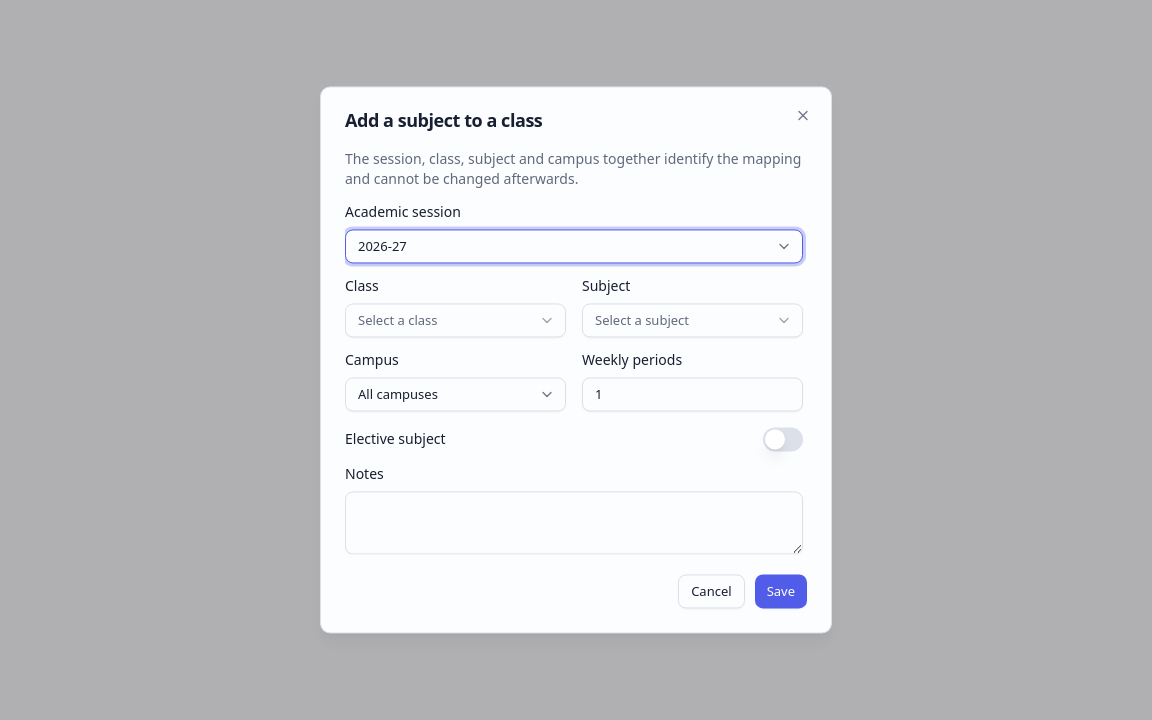
Test: CurriculumFormDialog › adding a subject › offers the sessions that aren't locked, starting on the screen's
Step 1. Click the dropdown named "Academic session" → [382, 246], box [345, 229, 803, 263]
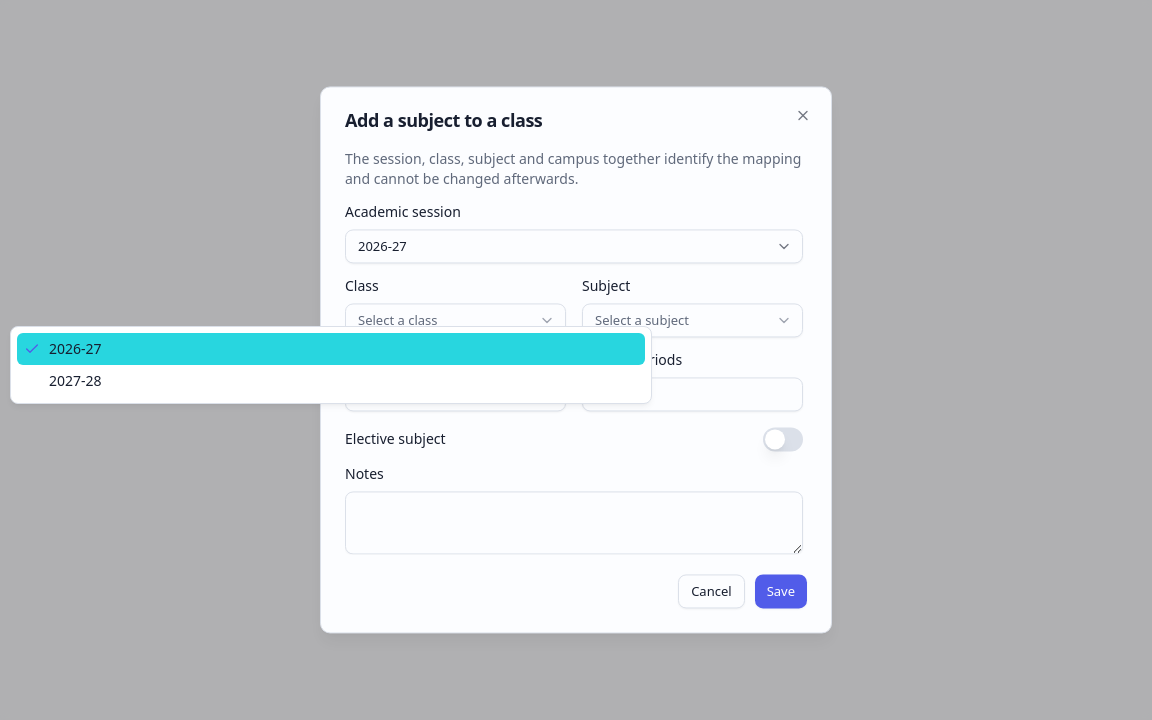
Expected: the option "2027-28" is shown, [49, 371, 102, 390]
